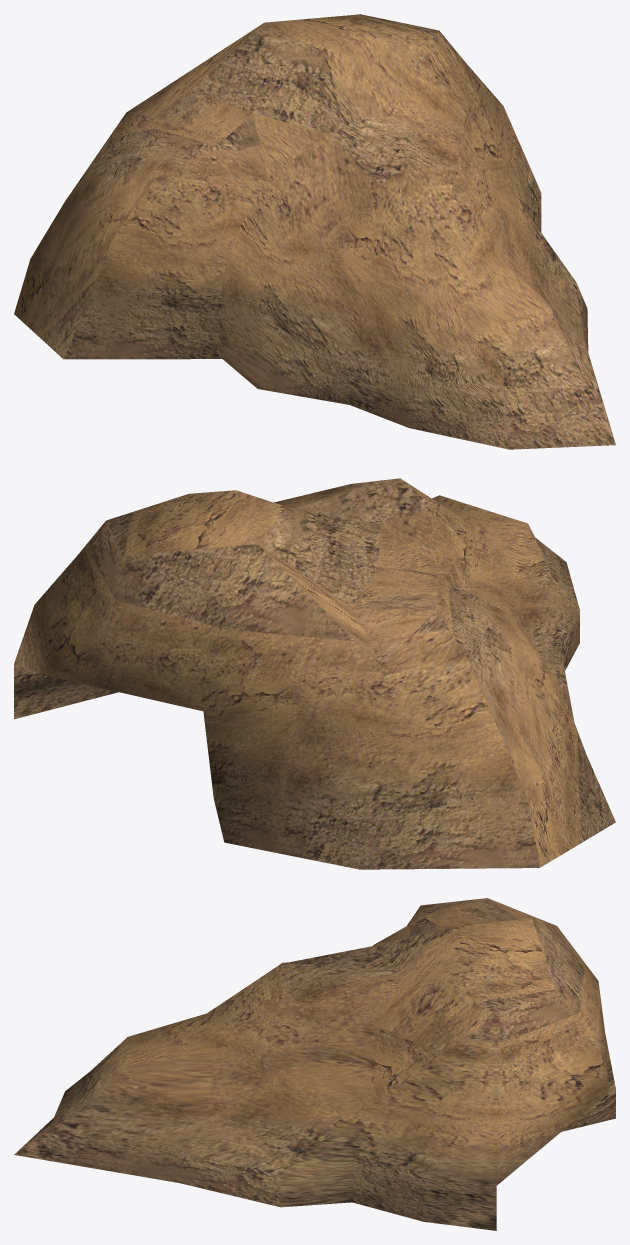
File: dh_temple_stone.glb
3 renders of one model, top to bottom at view 1: azimuth 30°, elevation 25°; view 2: azimuth 150°, elevation 25°; view 3: azimuth 270°, elevation 25°, orthographic. The views are drawn at different scales.
Parts seen in each view (by area): view 1: W_CD_tem_ston01; view 2: W_CD_tem_ston01; view 3: W_CD_tem_ston01.
Part boxes in pixels (x1=…): W_CD_tem_ston01: x1=14, y1=14, x2=615, y2=449; W_CD_tem_ston01: x1=14, y1=478, x2=615, y2=869; W_CD_tem_ston01: x1=14, y1=898, x2=615, y2=1230.
Size of the model in its own units: 39.99 by 17.73 by 46.14.
Materials: 1 (1 with a texture image).
